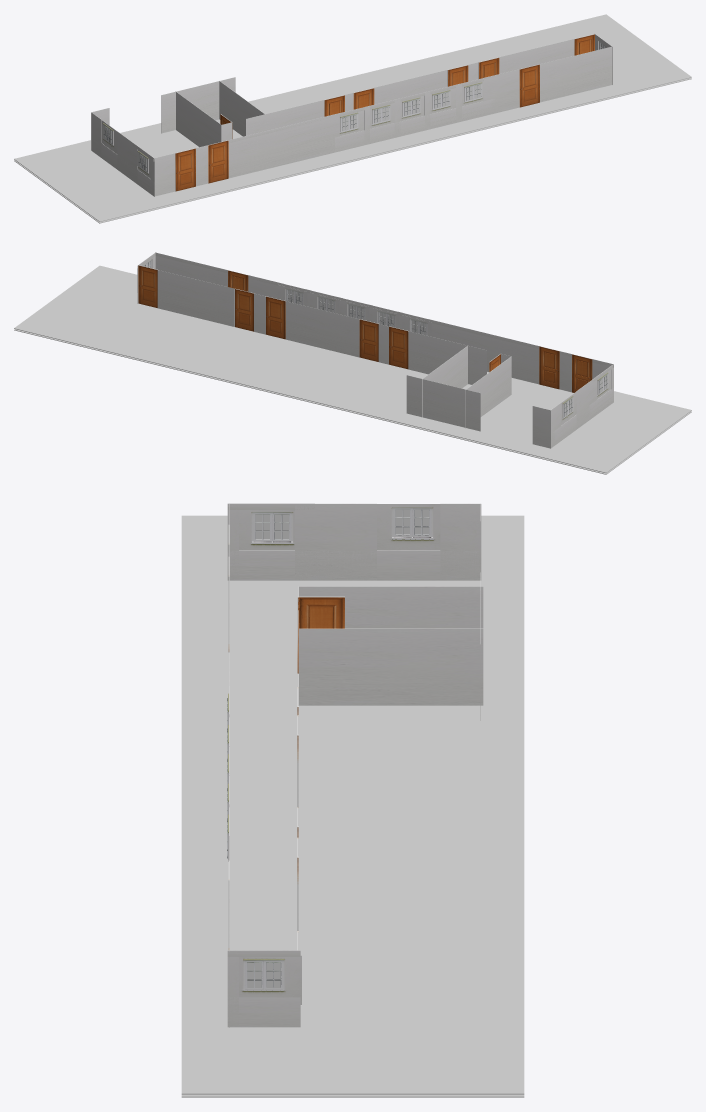
File: facility_corridor2.fbx
The picture shows the model from 3 angles, top to bottom: view 1: azimuth 30°, elevation 25°; view 2: azimuth 150°, elevation 25°; view 3: azimuth 270°, elevation 25°; orthographic projection. The views are drawn at different scales.
Visible parts, largest first — view 1: wall.003, floor, door.008, door.007, door, wall_with_window.003, wall_with_window, wall_with_window.001, wall_with_window.002, wall_with_window.004, wall_with_window.007, door.003 (+4 smaller); view 2: floor, wall.003, door.007, door.003, door.005, door.001, door.004, door.002, door.008, wall_with_window, wall_with_window.004, wall_with_window.001 (+4 smaller); view 3: floor, wall.003, wall_with_window.007, wall_with_window.005, wall_with_window.006, door.006.
Part boxes in pixels (x1,y1,x2,y2): wall.003: (91,33,612,196); floor: (14,14,691,223); door.008: (175,148,195,191); door.007: (208,140,228,183); door: (519,64,539,107); wall_with_window.003: (430,88,455,113); wall_with_window: (339,110,363,136); wall_with_window.001: (370,103,394,128); wall_with_window.002: (400,95,424,121); wall_with_window.004: (462,81,483,106); wall_with_window.007: (101,120,117,153); door.003: (447,65,468,86); floor: (14,265,691,474); wall.003: (137,252,613,448); door.007: (539,346,559,389); door.003: (265,296,285,339); door.005: (389,326,408,369); door.001: (138,265,157,307); door.004: (359,319,378,361); door.002: (235,288,253,331); door.008: (572,354,592,392); wall_with_window: (402,315,431,336); wall_with_window.004: (278,285,307,306); wall_with_window.001: (370,307,399,328); floor: (181,515,524,1097); wall.003: (227,503,483,1027); wall_with_window.007: (377,504,440,550); wall_with_window.005: (239,955,301,1005); wall_with_window.006: (239,510,294,550); door.006: (297,596,344,673).
Bounding box in the file's own units: 39.9 × 10 × 2.6.
